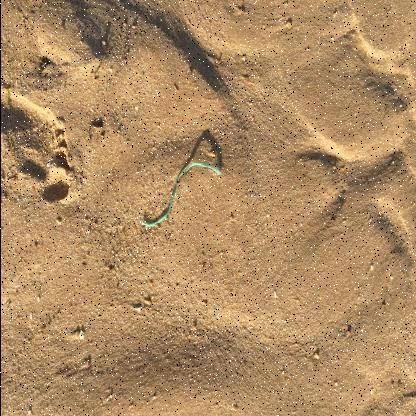other: (140, 162, 221, 228)
